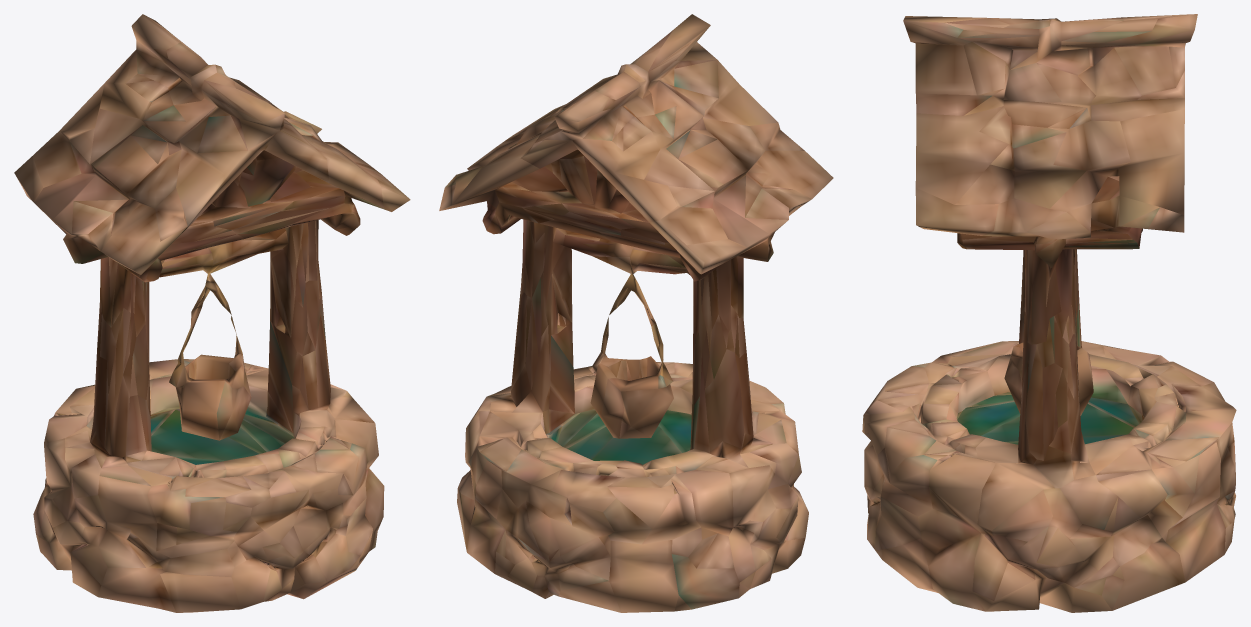
File: well.glb
3 renders of one model, left to right at view 1: azimuth 30°, elevation 25°; view 2: azimuth 150°, elevation 25°; view 3: azimuth 270°, elevation 25°, orthographic. The views are drawn at different scales.
Size of the model in its own units: 1.24 by 1.91 by 1.22.
Materials: 1 (1 with a texture image).
